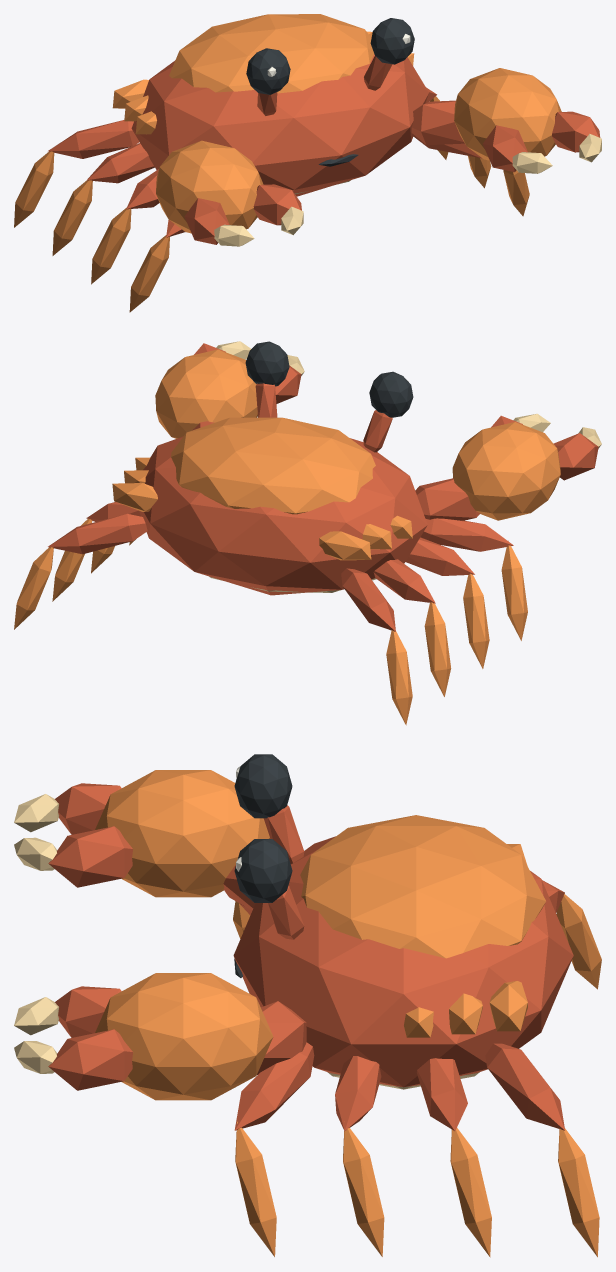
File: ShoreCrab.fbx
3 views of the same model, one above another, from view 1: azimuth 30°, elevation 25°; view 2: azimuth 150°, elevation 25°; view 3: azimuth 270°, elevation 25° (orthographic). The views are drawn at different scales.
Parts seen in each view (by area): view 1: Carapace, TopPlate, ClawPalm, ClawPalm.001, LegUpper.003, ClawArm.001, Eye, Eye.001, LegUpper.002, LegTip, LegTip.001, LegTip.003 (+17 smaller); view 2: Carapace, TopPlate, ClawPalm, ClawPalm.001, LegUpper.007, LegUpper, ClawArm, LegUpper.003, LegTip, LegTip.001, Eye, LegTip.003 (+14 smaller); view 3: Carapace, TopPlate, ClawPalm.001, ClawPalm, PincerFinger.001, PincerFinger.003, LegUpper.007, LegUpper.004, LegTip.004, LegTip.006, LegTip.007, Eye (+17 smaller).
Part boxes in pixels (x1,y1,x2,y2): Carapace: [131, 54, 428, 196]; TopPlate: [169, 14, 374, 93]; ClawPalm: [156, 140, 263, 233]; ClawPalm.001: [454, 68, 561, 160]; LegUpper.003: [48, 120, 139, 158]; ClawArm.001: [411, 100, 464, 145]; Eye: [246, 48, 290, 94]; Eye.001: [370, 18, 414, 64]; LegUpper.002: [87, 143, 154, 183]; LegTip: [129, 232, 170, 312]; LegTip.001: [91, 207, 131, 284]; LegTip.003: [14, 151, 54, 227]; Carapace: [139, 436, 427, 595]; TopPlate: [171, 417, 375, 514]; ClawPalm: [452, 422, 560, 520]; ClawPalm.001: [155, 349, 257, 438]; LegUpper.007: [48, 513, 147, 554]; LegUpper: [420, 518, 513, 551]; ClawArm: [415, 478, 480, 520]; LegUpper.003: [341, 568, 395, 631]; LegTip: [501, 540, 527, 640]; LegTip.001: [463, 573, 489, 668]; Eye: [369, 371, 413, 417]; LegTip.003: [386, 630, 412, 725]; Carapace: [233, 836, 573, 1087]; TopPlate: [300, 815, 545, 958]; ClawPalm.001: [95, 973, 273, 1100]; ClawPalm: [95, 770, 270, 897]; PincerFinger.001: [48, 826, 132, 887]; PincerFinger.003: [48, 1029, 132, 1090]; LegUpper.007: [485, 1043, 564, 1130]; LegUpper.004: [234, 1042, 314, 1130]; LegTip.004: [235, 1121, 276, 1256]; LegTip.006: [450, 1128, 491, 1257]; LegTip.007: [558, 1121, 599, 1257]; Eye: [234, 754, 292, 818].
Bounding box in the file's own units: 131 × 71.84 × 117.
